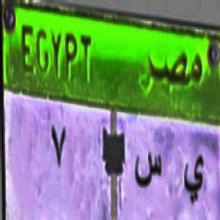7: (48, 119, 68, 173)
seen: (134, 145, 164, 192)
yaa: (183, 147, 204, 204)
